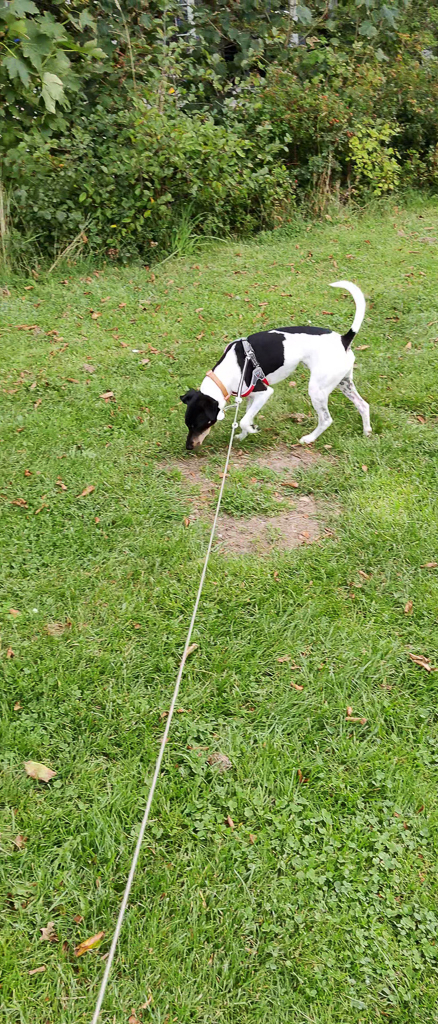Dog: (175, 267, 380, 460)
